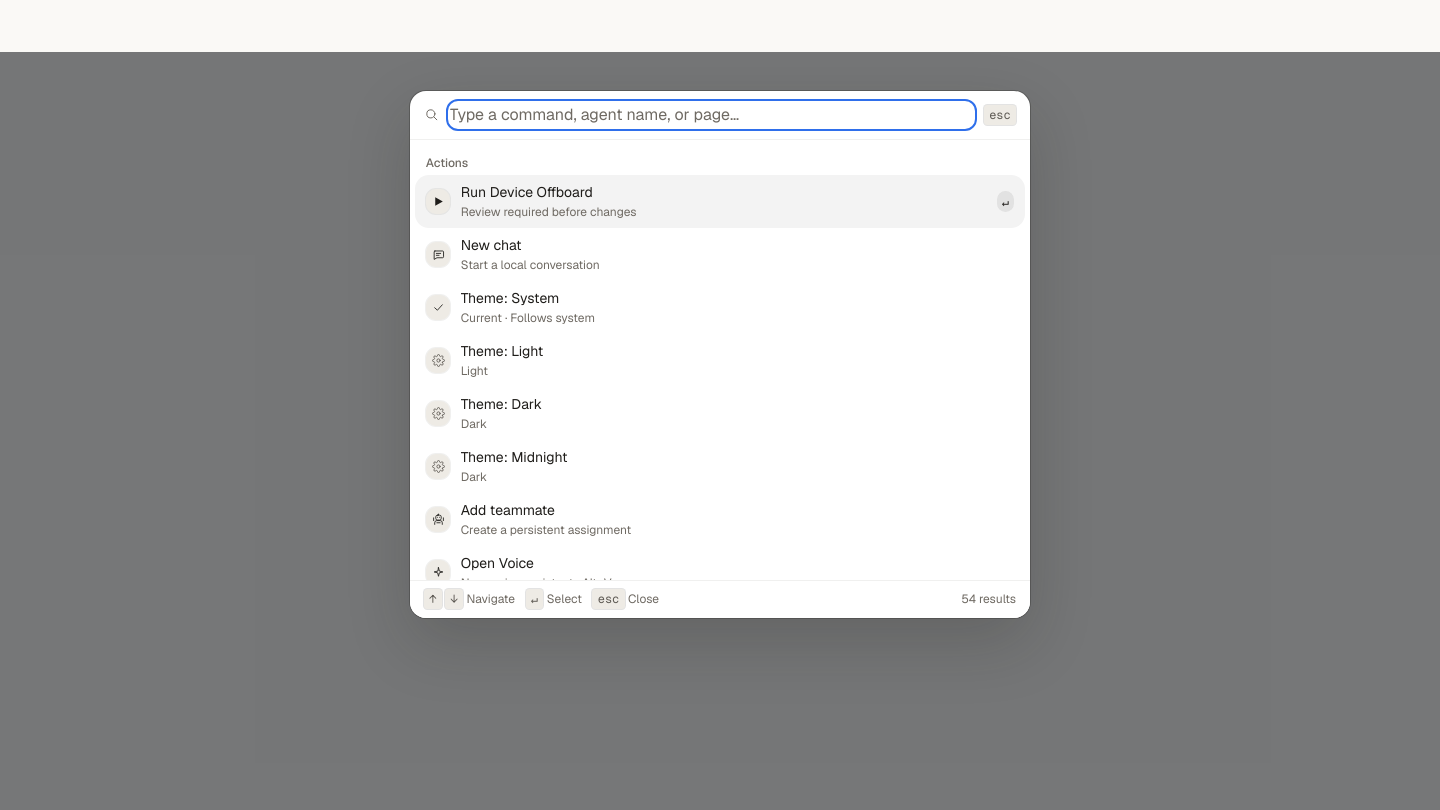
Test: uses server conversation search for message-content matches
The image size is (1440, 810).
In the dropdown named "Search commands, agents, or pages": (711, 114) [450,102,973,126], type "autopilot failure"
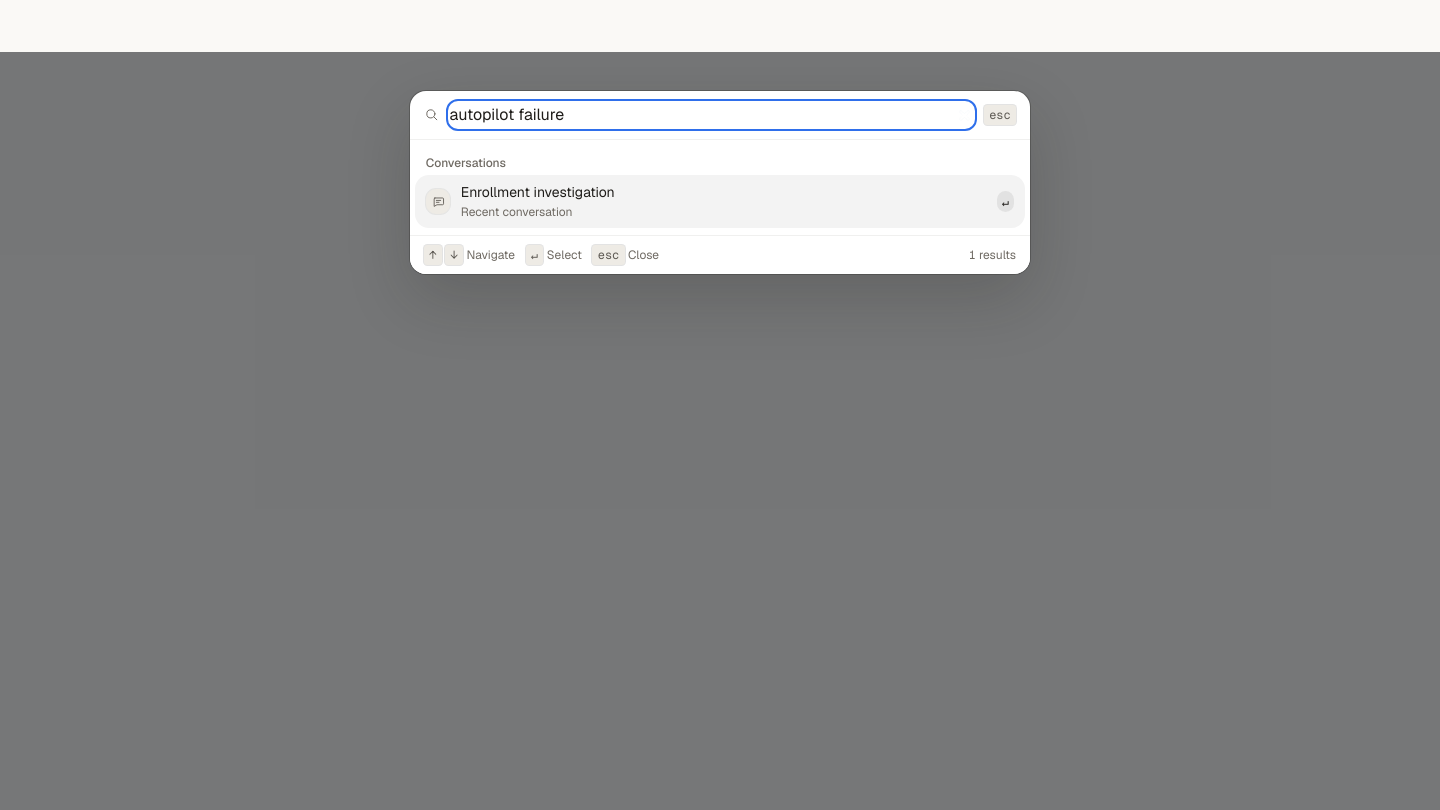
Expected: the option "Enrollment investigation Recent conversation ↵" is shown, [415,175,1025,228]
